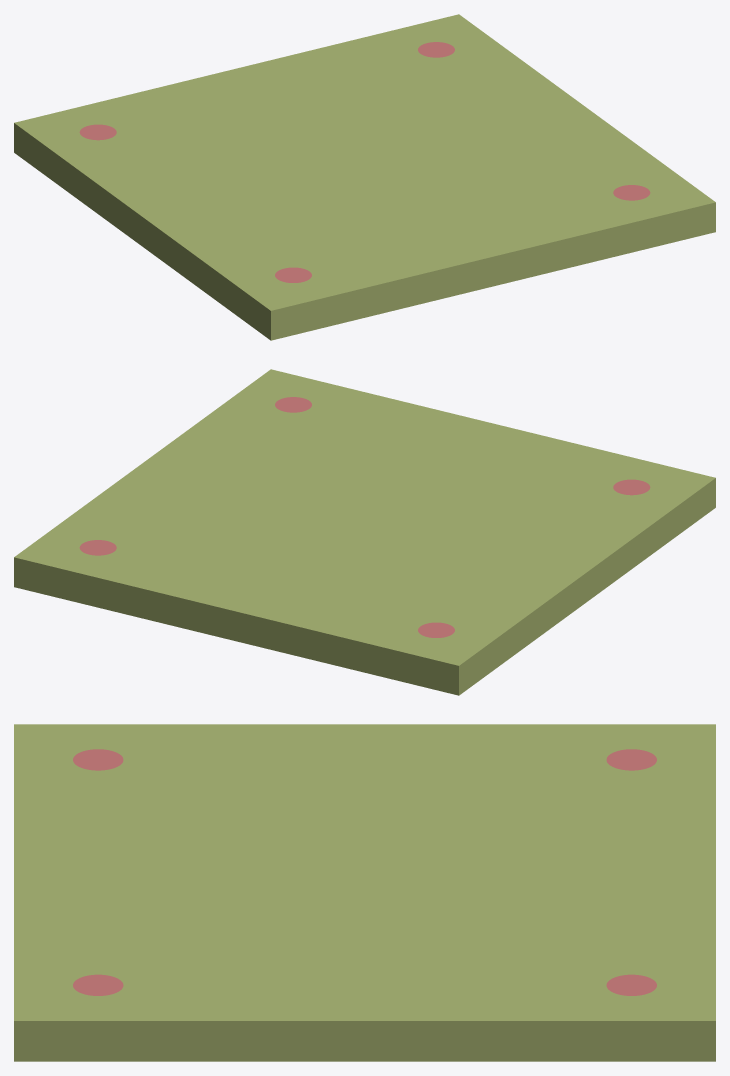
The model's file is step_61.glb.
The picture shows the model from 3 angles, top to bottom: view 1: azimuth 30°, elevation 25°; view 2: azimuth 150°, elevation 25°; view 3: azimuth 270°, elevation 25°; orthographic projection. The views are drawn at different scales.
Visible parts, largest first — view 1: part__pipe support SP-101, tall, removed__pipe support SP-101, tall; view 2: part__pipe support SP-101, tall, removed__pipe support SP-101, tall; view 3: part__pipe support SP-101, tall, removed__pipe support SP-101, tall.
Boxes of the visible parts, x1,y1,x2,y2 form: part__pipe support SP-101, tall: (14,14,715,340); removed__pipe support SP-101, tall: (79,42,650,282); part__pipe support SP-101, tall: (14,369,715,695); removed__pipe support SP-101, tall: (79,397,650,637); part__pipe support SP-101, tall: (14,724,715,1061); removed__pipe support SP-101, tall: (73,749,656,995).
Bounding box in the file's own units: 250 × 16 × 250.
